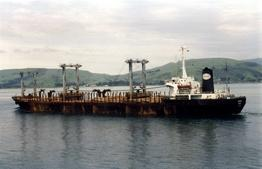Cargoship: (14, 45, 247, 119)
